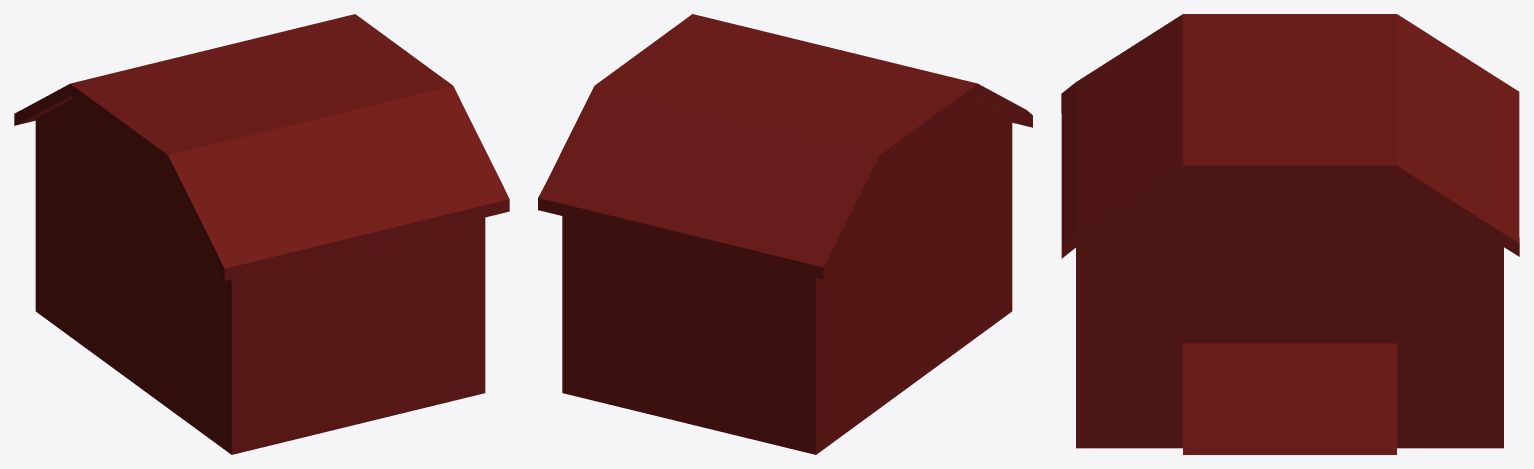
File: barn.glb
3 renders of one model, left to right at view 1: azimuth 30°, elevation 25°; view 2: azimuth 150°, elevation 25°; view 3: azimuth 270°, elevation 25°, orthographic. The views are drawn at different scales.
Parts seen in each view (by area): view 1: Cube; view 2: Cube; view 3: Cube.
Boxes of the visible parts, box(x1,y1,x2,y2) form: Cube: box(14, 14, 509, 454); Cube: box(538, 14, 1032, 454); Cube: box(1061, 14, 1519, 454).
Size of the model in its own units: 14.95 by 13.37 by 19.03.
